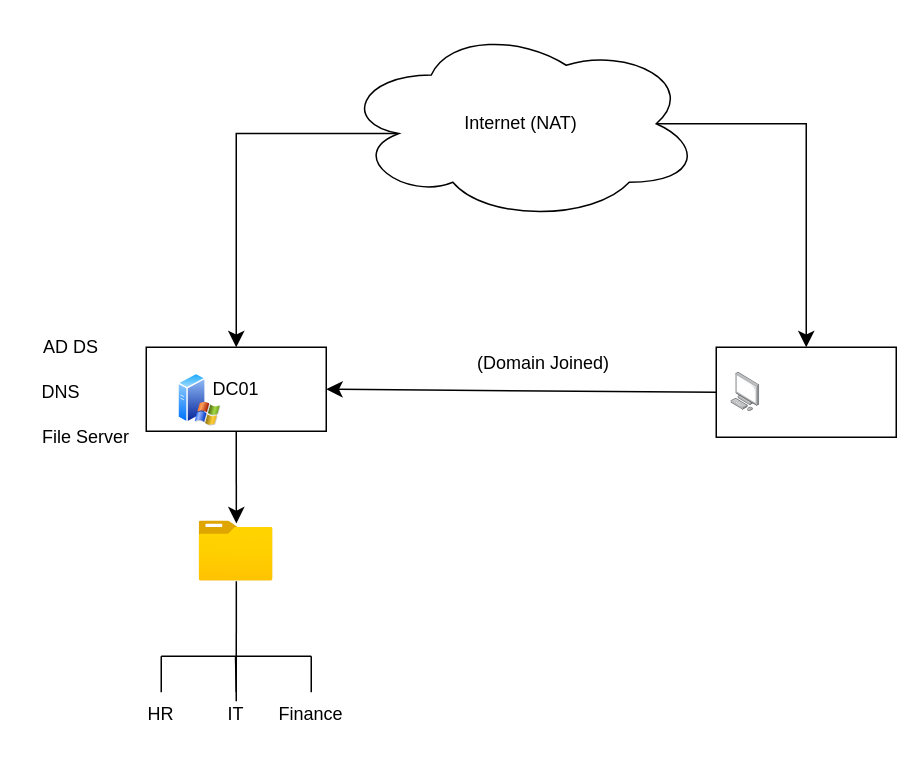
Some shapes in this 923 by 764 pixel diagram are drawn without their labels. Each missing label, with the box of its shape:
//DC01/Shares$: (199, 520, 273, 580)
CLIENT1: (715, 346, 896, 437)
